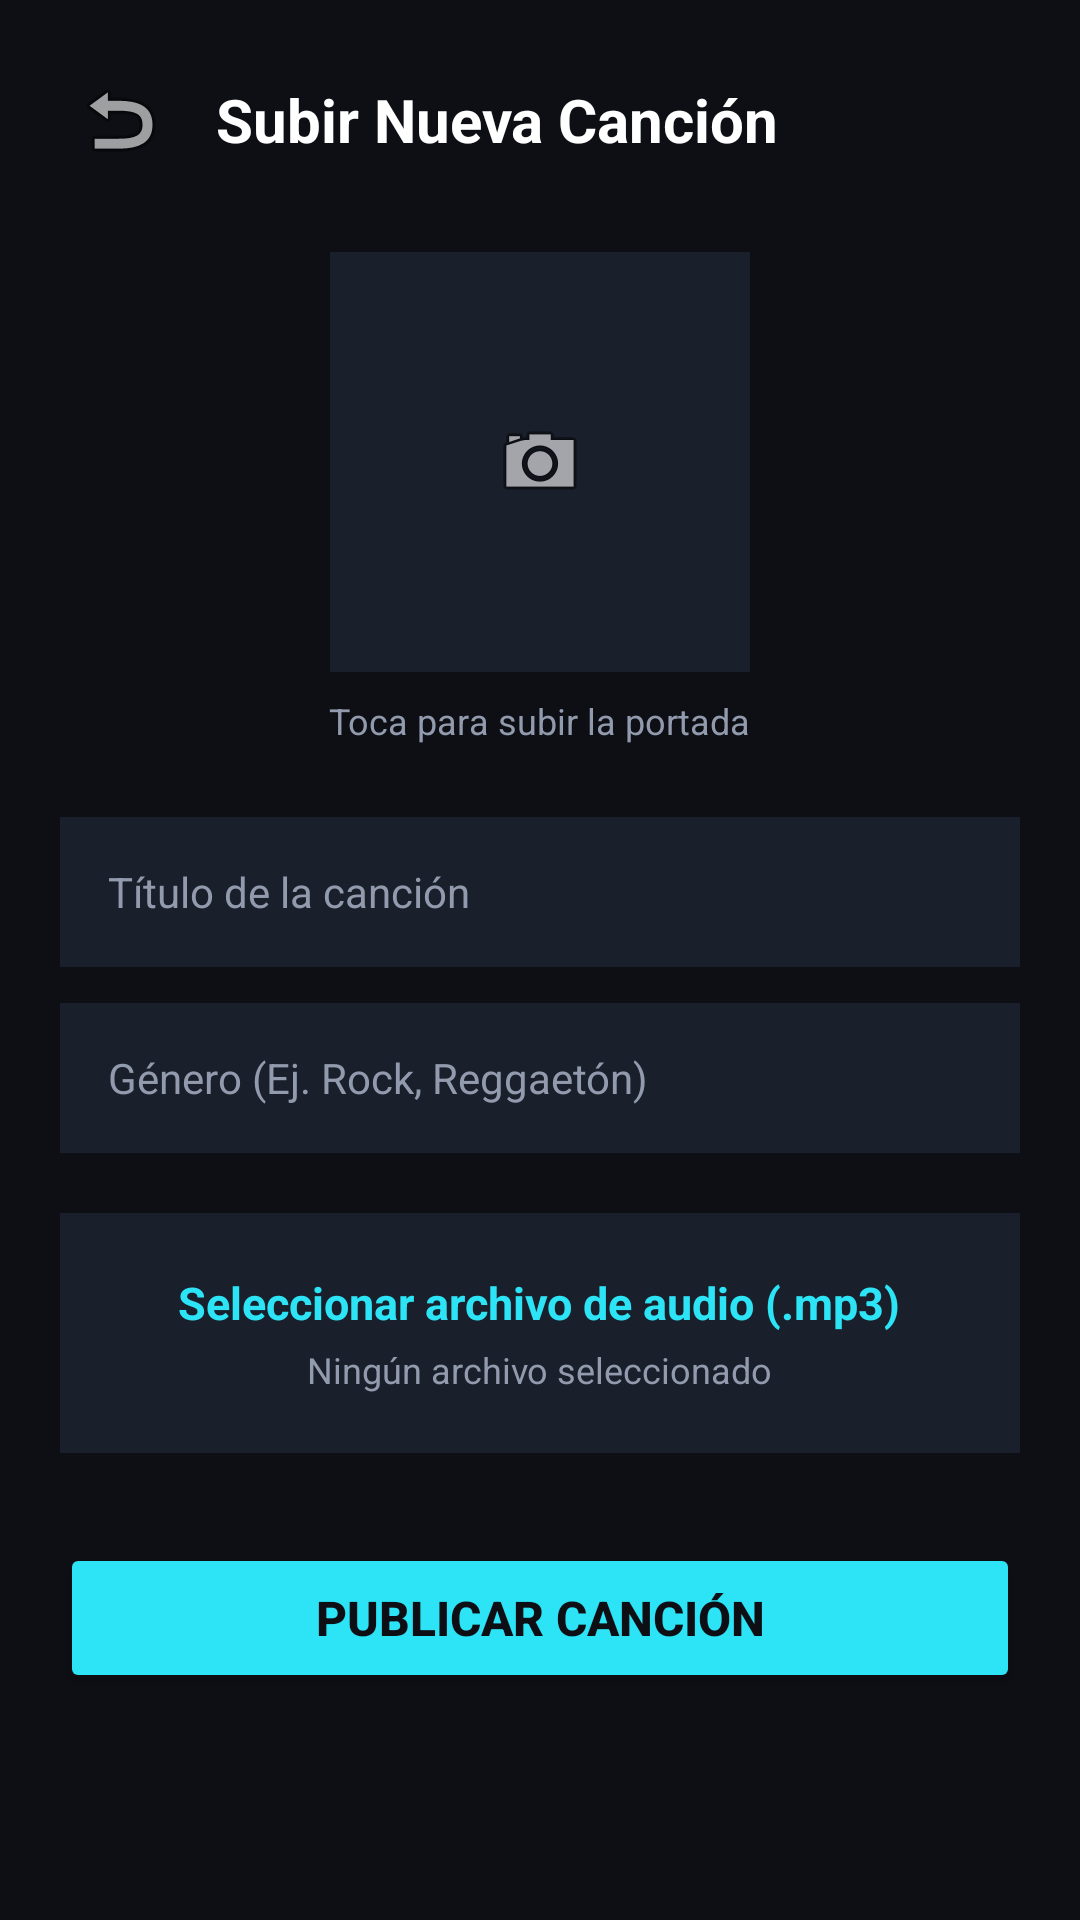

Locate icon controls on the screen. Image size 1080px x 1920px, boxes as rect(x1, y1, x2, y2).
Volver: rect(90, 92, 153, 149)
